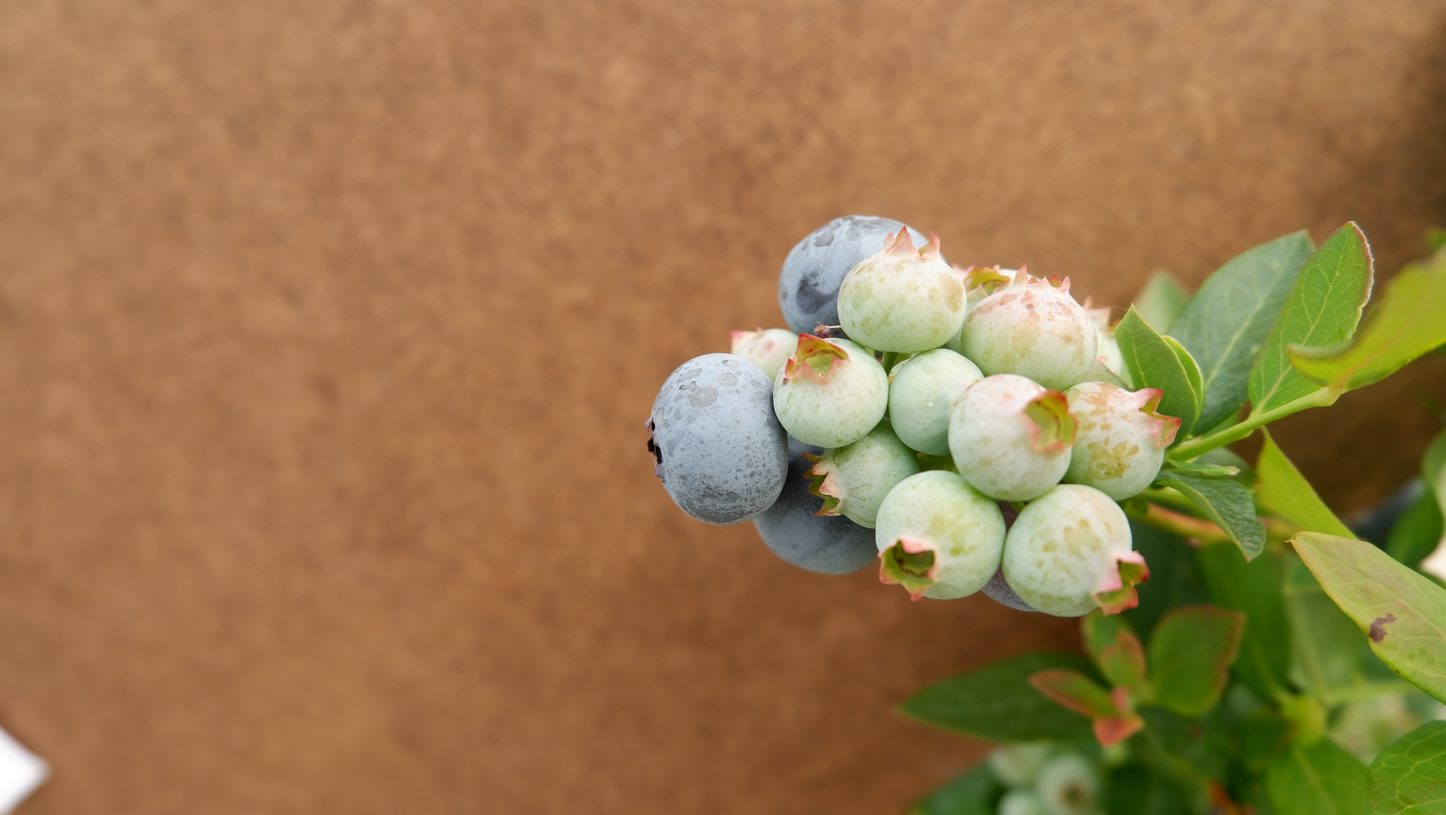Immature: (1003, 483, 1149, 617), (961, 263, 1098, 389), (875, 470, 1006, 601), (837, 224, 968, 352), (948, 374, 1078, 501), (1060, 381, 1183, 501), (773, 331, 890, 448), (801, 416, 921, 530), (886, 350, 984, 456), (947, 263, 1014, 355), (1082, 295, 1135, 394), (731, 326, 799, 386), (1079, 356, 1132, 391)
Mature: (648, 352, 790, 525), (779, 214, 929, 339), (753, 432, 880, 576), (981, 501, 1039, 611)
